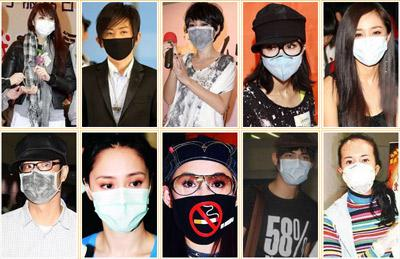OK: (172, 172, 234, 234), (91, 173, 148, 230), (351, 23, 392, 64), (262, 36, 303, 77), (21, 161, 61, 201), (278, 147, 313, 183), (341, 155, 376, 190), (103, 27, 137, 61), (189, 21, 214, 49), (35, 15, 57, 37)
